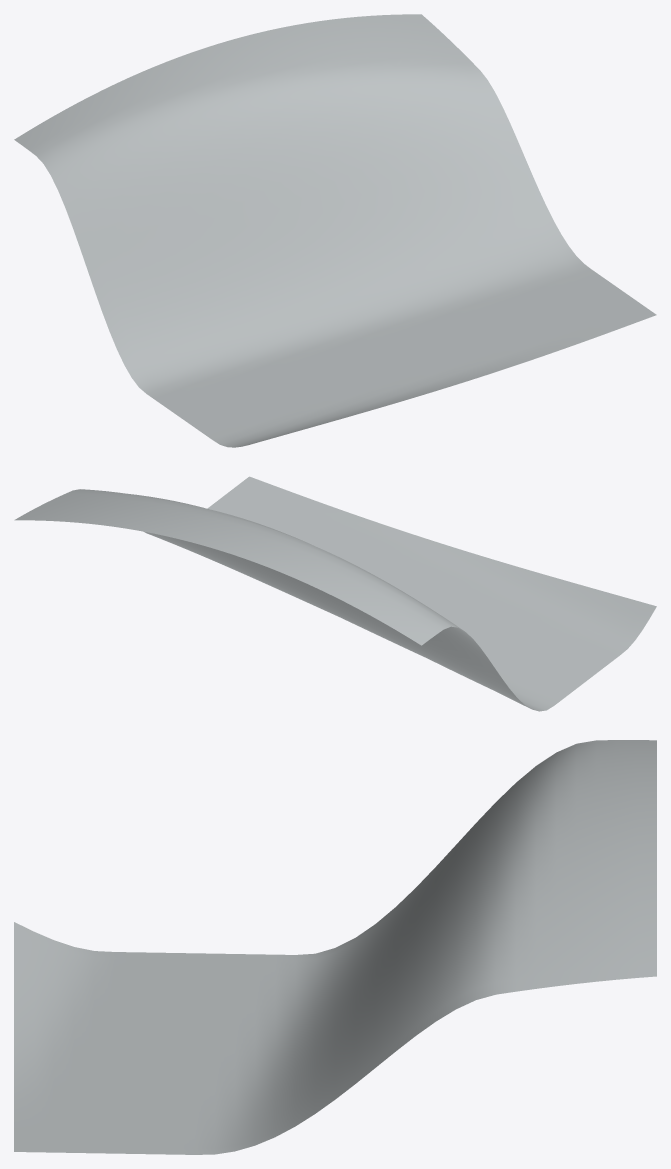
The model's file is alpine-9-2.glb.
3 views of the same model, one above another, from view 1: azimuth 30°, elevation 25°; view 2: azimuth 150°, elevation 25°; view 3: azimuth 270°, elevation 25° (orthographic). The views are drawn at different scales.
Parts seen in each view (by area): view 1: alpine-9-2; view 2: alpine-9-2; view 3: alpine-9-2.
Boxes of the visible parts, x1=… form: alpine-9-2: x1=14, y1=14, x2=656, y2=447; alpine-9-2: x1=14, y1=476, x2=656, y2=711; alpine-9-2: x1=14, y1=740, x2=656, y2=1154.
Size of the model in its own units: 256 by 123 by 256.
Materials: 1 (1 with a texture image).
